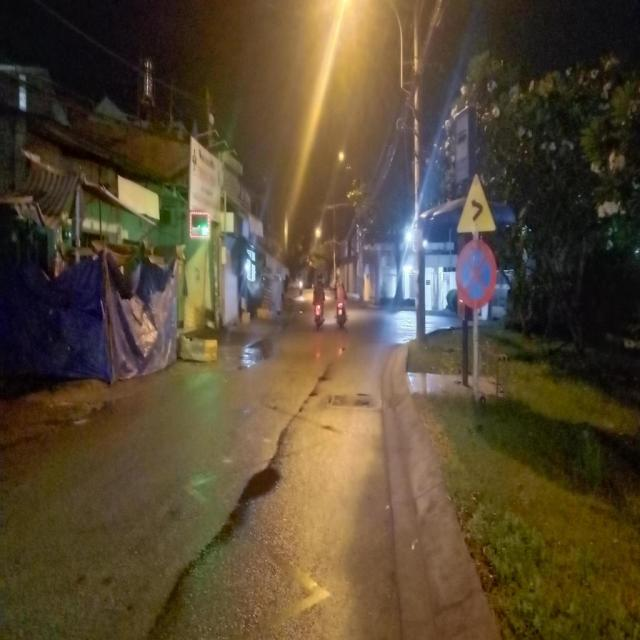cam_dung_xe_va_do_xe: (456, 240, 497, 311)
cho_ngoat_nguy_hiem_ben_trai: (457, 172, 496, 231)
